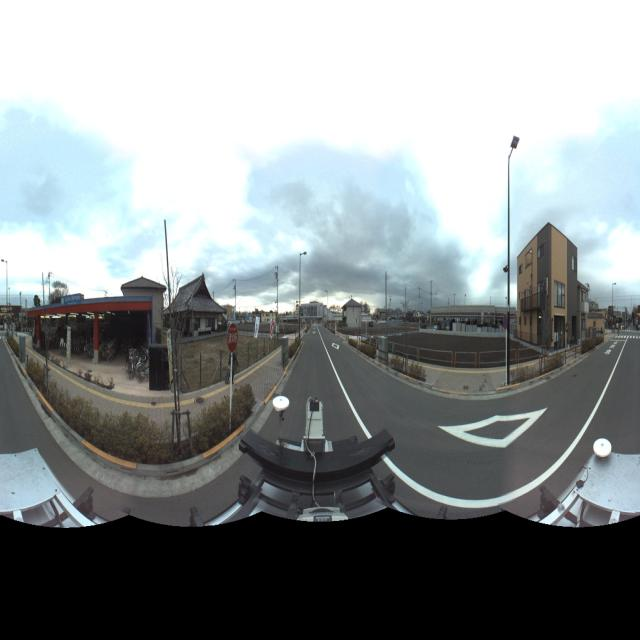b_1: (516, 219, 577, 358), (168, 258, 232, 354), (577, 277, 592, 352)
